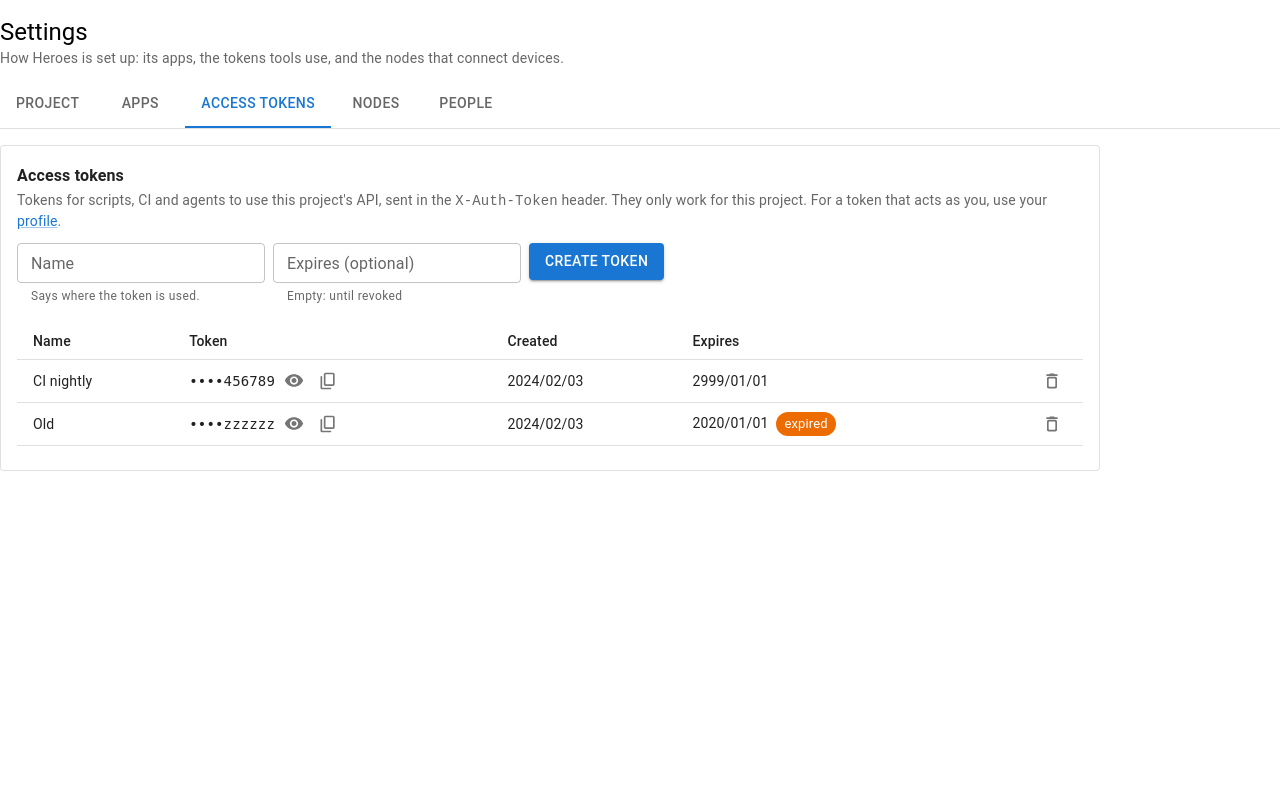
Settings > Access tokens > revoke: keeps the command of another token when one is revoked
Expected: the table named "Access tokens" is shown, left=17, top=323, right=1083, bottom=446
In the field labelled "Name": (141, 263) left=17, top=243, right=265, bottom=283, type "Nightly"
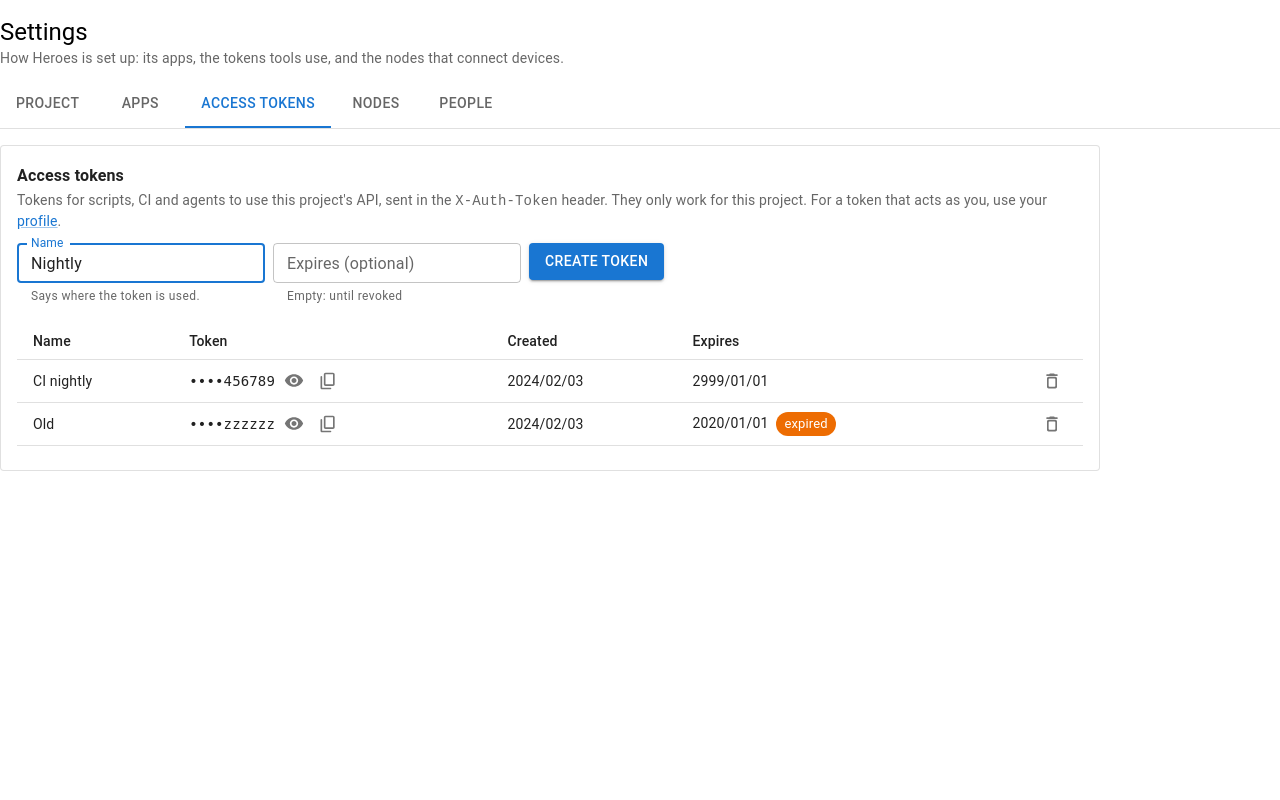
Click the button "Create token": (597, 261) left=529, top=243, right=664, bottom=280
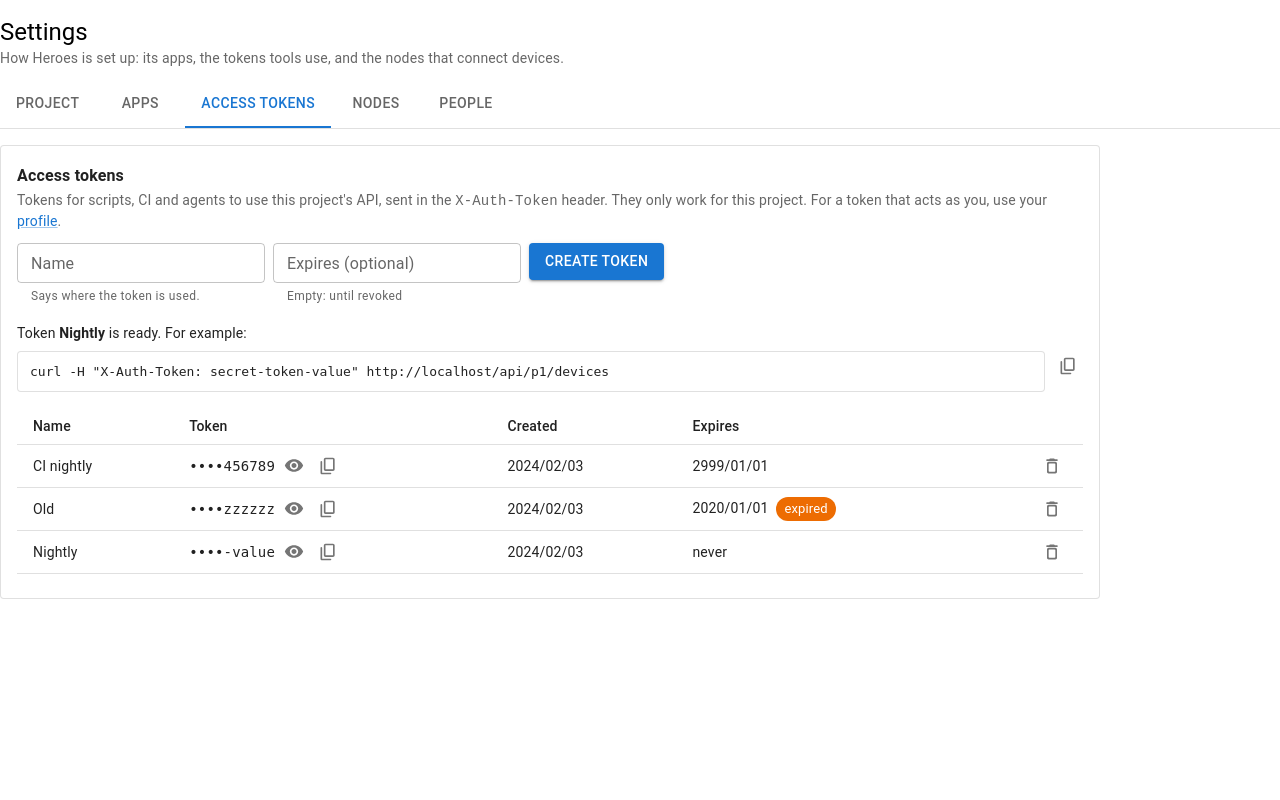
Expected: the text "Token Nightly is ready. For example:" is shown, left=17, top=325, right=247, bottom=341
Click the button named "Revoke Old": (1052, 509) left=1037, top=494, right=1067, bottom=524
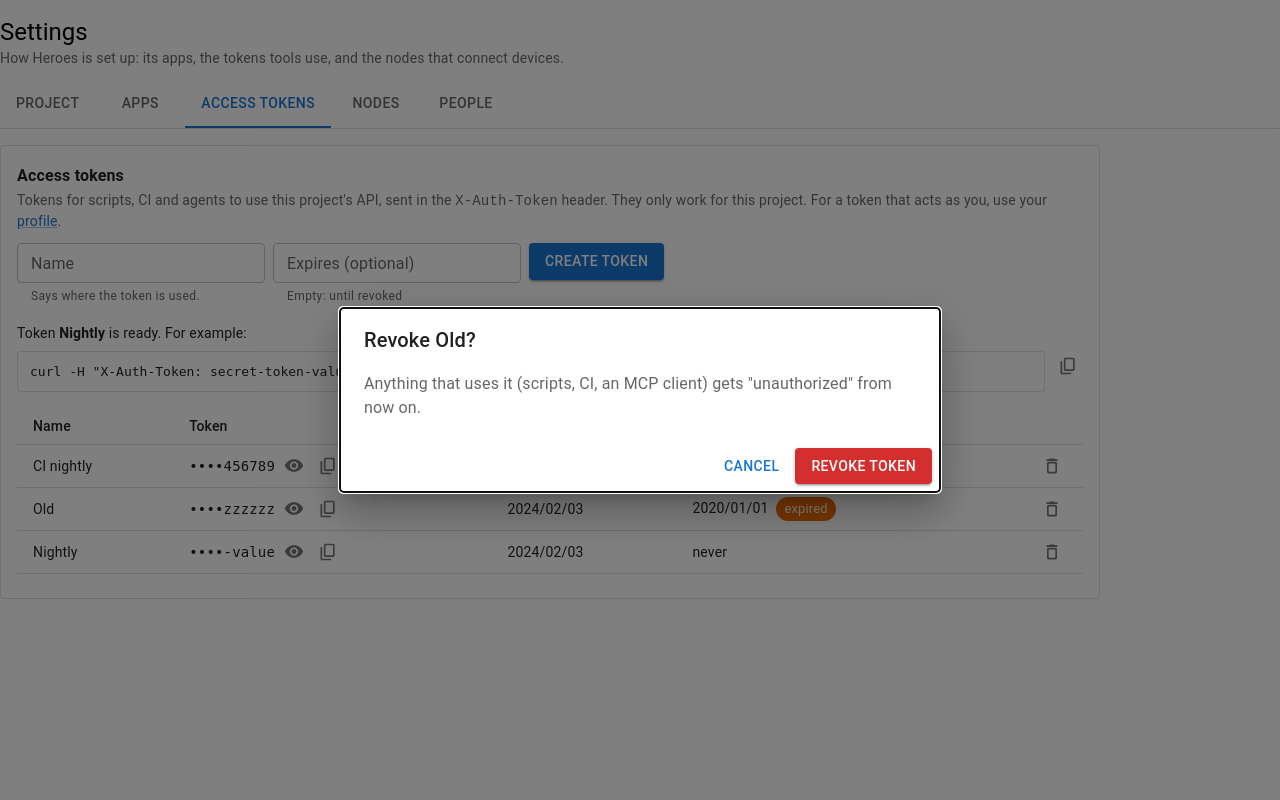
Click the button "Revoke token": (864, 466) left=795, top=448, right=932, bottom=484
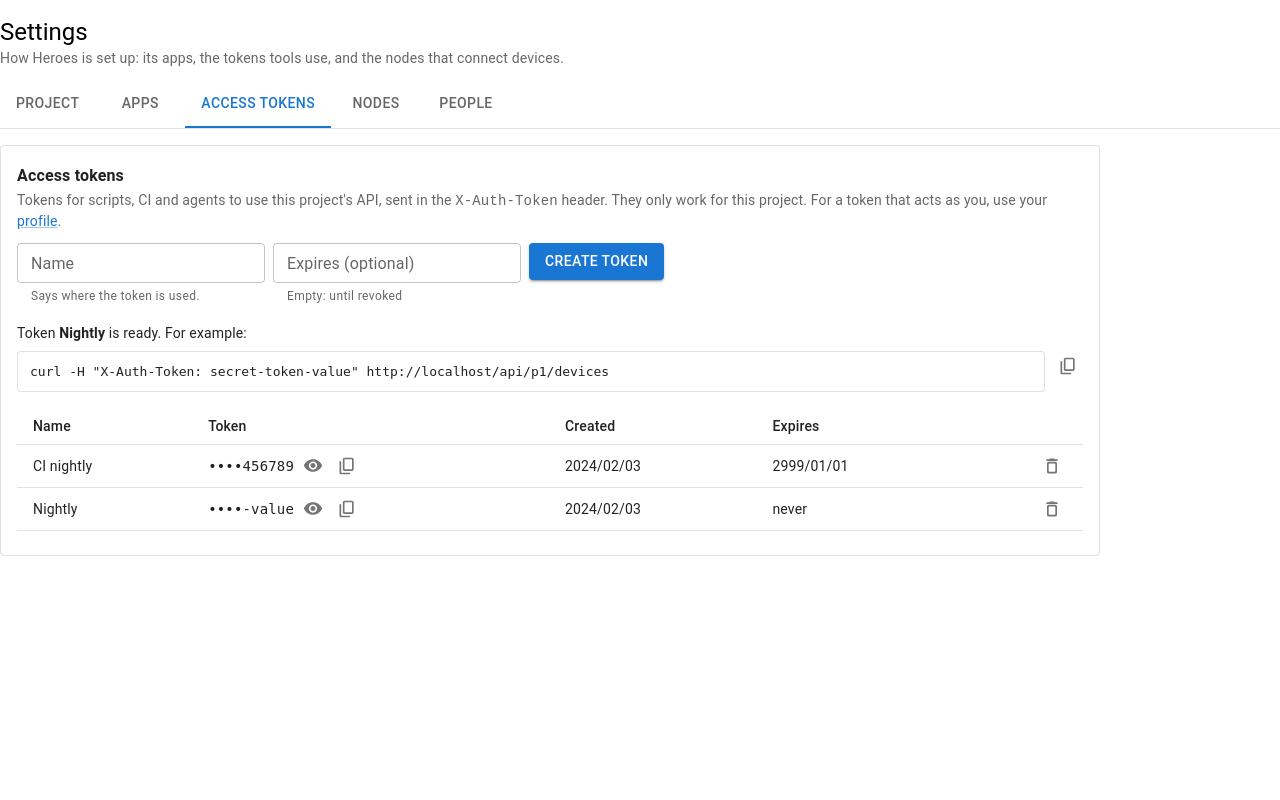
Expected: the text "Token Nightly is ready. For example:" is shown, left=17, top=325, right=247, bottom=341
Expected: the heading "Revoke Old" is gone
